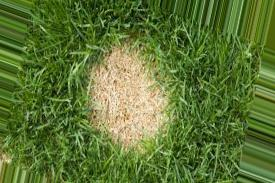patch: (96, 72, 188, 101), (99, 105, 158, 136), (114, 56, 153, 67)
